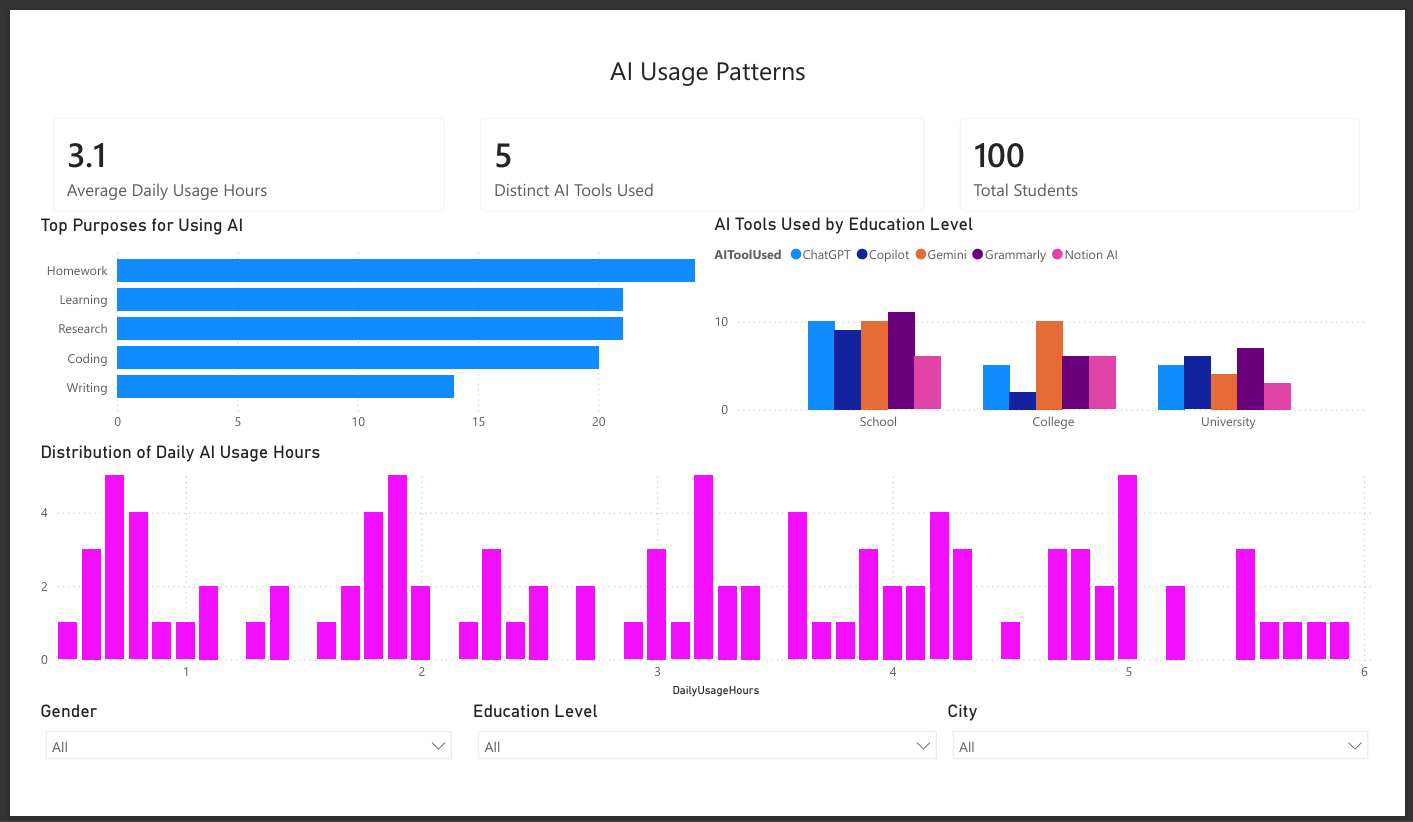

Layout of this report page (visuals, bound fields, positions):
{"tool":"powerbi","page":{"name":"AI Usage Patterns","canvas":[1280,720],"ordinal":1},"visuals":[{"type":"cardVisual","fields":{"Data":["Measures (2).Average Daily Usage Hours"]},"box":[0,61.9,407.1,123.8],"z":0},{"type":"cardVisual","fields":{"Data":["Measures (2).Distinct AI Tools Used"]},"box":[407.1,61.9,457.1,123.8],"z":1000},{"type":"cardVisual","fields":{"Data":["Measures (2).Total Students"]},"box":[864.3,61.9,415.5,123.8],"z":2000},{"type":"clusteredBarChart","title":"Top Purposes for Using AI","fields":{"Category":["Students.Purpose"],"Y":["CountNonNull(Students.StudentID)"]},"box":[0,170.7,640.5,216.7],"z":3000},{"type":"clusteredColumnChart","title":"AI Tools Used by Education Level","fields":{"Category":["Students.EducationLevel"],"Series":["Students.AIToolUsed"],"Y":["CountNonNull(Students.StudentID)"]},"box":[641.7,170.2,633.3,216.7],"z":4000},{"type":"columnChart","title":"Distribution of Daily AI Usage Hours","fields":{"Category":["Students.DailyUsageHours"],"Y":["CountNonNull(Students.StudentID)"]},"box":[0,386.9,1279.8,247.6],"z":5000},{"type":"slicer","title":"Gender","fields":{"Values":["Students.Gender"]},"box":[0,634.3,407.1,85.7],"z":6000},{"type":"slicer","title":"Education Level","fields":{"Values":["Students.EducationLevel"]},"box":[411.9,634.3,457.1,85.7],"z":7000},{"type":"slicer","title":"City","fields":{"Values":["Students.City"]},"box":[864.3,634.3,415.5,85.7],"z":7001},{"type":"textbox","box":[213.1,11.9,856,50],"z":7002}]}

Visuals, with their boxes on the page's 1280x720 design canvas (x1, y1, x2, y2). These are canvas units, not pixel positions in the 1413x822 screenshot, which may show the page scaled, cropped or inside an application window:
cardVisual - Measures (2).Average Daily Usage Hours: [x1=0, y1=62, x2=407, y2=186]
cardVisual - Measures (2).Distinct AI Tools Used: [x1=407, y1=62, x2=864, y2=186]
cardVisual - Measures (2).Total Students: [x1=864, y1=62, x2=1280, y2=186]
"Top Purposes for Using AI" clusteredBarChart: [x1=0, y1=171, x2=640, y2=387]
"AI Tools Used by Education Level" clusteredColumnChart: [x1=642, y1=170, x2=1275, y2=387]
"Distribution of Daily AI Usage Hours" columnChart: [x1=0, y1=387, x2=1280, y2=634]
"Gender" slicer: [x1=0, y1=634, x2=407, y2=720]
"Education Level" slicer: [x1=412, y1=634, x2=869, y2=720]
"City" slicer: [x1=864, y1=634, x2=1280, y2=720]
textbox: [x1=213, y1=12, x2=1069, y2=62]
